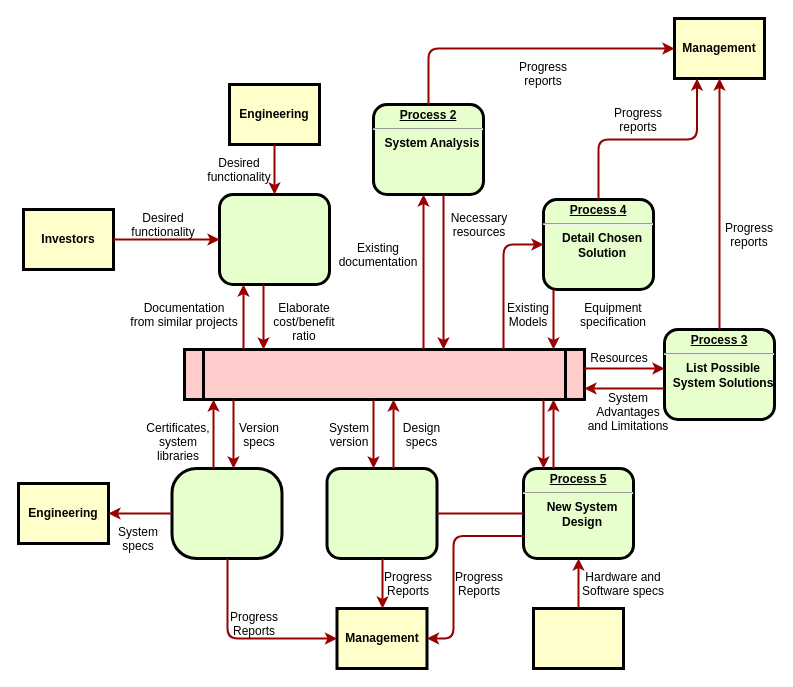
This 793x687 diagram has some shape labels left out. The centre of each missing label's shape, as x and y in pixels:
"echoserver" belongs at pixel 384 374.
"EchoServer onConnection onMessage Construction" belongs at pixel 226 513.
"EventLoop System Study Preparation" belongs at pixel 274 239.
"Process 7 New System Startup and Testing" belongs at pixel 381 513.
"Vendors" belongs at pixel 578 638.
